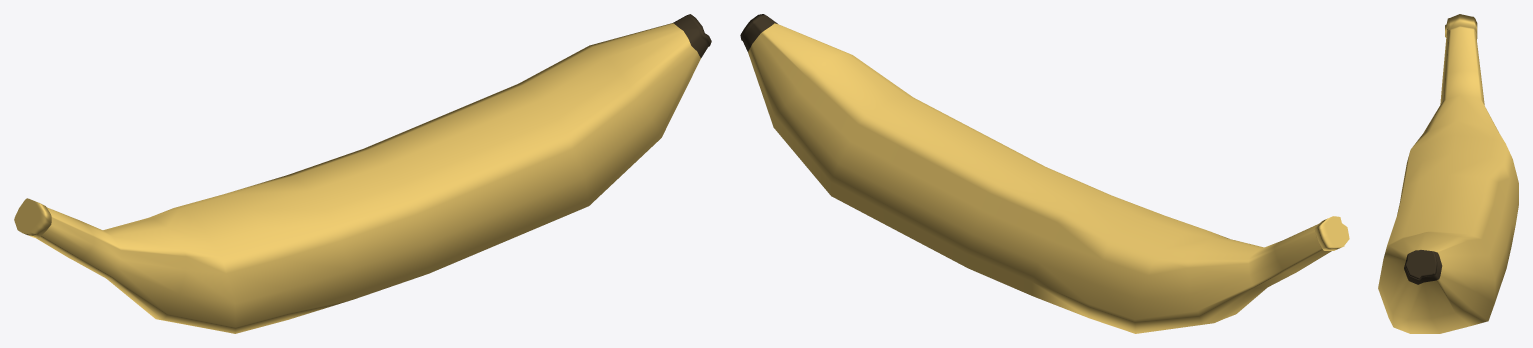
File: banana.fbx
The picture shows the model from 3 angles, left to right: view 1: azimuth 30°, elevation 25°; view 2: azimuth 150°, elevation 25°; view 3: azimuth 270°, elevation 25°; orthographic projection. The views are drawn at different scales.
Parts seen in each view (by area): view 1: banana2; view 2: banana2; view 3: banana2.
Boxes of the visible parts, box(x1,y1,x2,y2) form: banana2: box(14, 14, 711, 333); banana2: box(740, 14, 1349, 333); banana2: box(1378, 14, 1518, 333).
Size of the model in its own units: 35.45 by 10.6 by 7.38.
